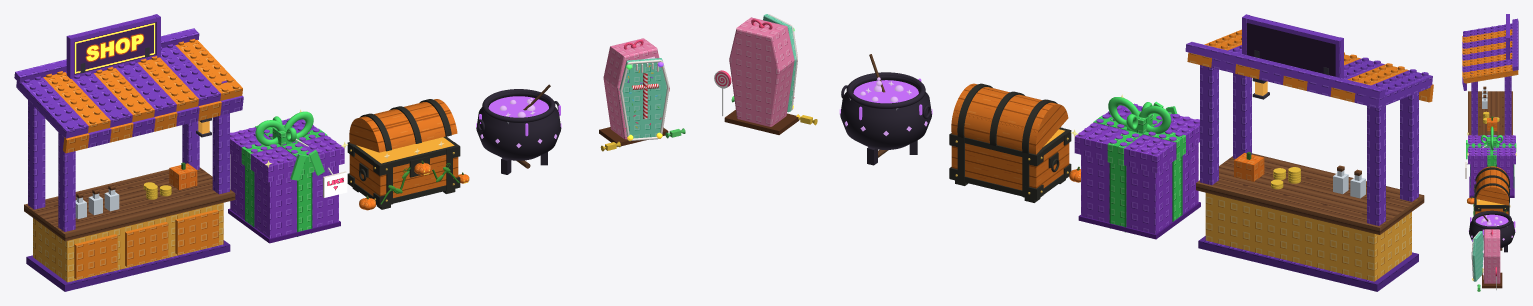
File: Lobby_Props.glb
The picture shows the model from 3 angles, left to right: view 1: azimuth 30°, elevation 25°; view 2: azimuth 150°, elevation 25°; view 3: azimuth 270°, elevation 25°; orthographic projection. The views are drawn at different scales.
Visible parts, largest first — view 1: counter_top_4, gift_body_0, counter_0, cauldron_pot_0, chest_lid_5, shop_sign_27, coffin_lid_3, gift_lid_1, chest_body_0, coffin_body_0, counter_base_5, awning_studs_60 (+30 smaller); view 2: counter_0, counter_top_4, coffin_body_0, gift_body_0, chest_lid_5, cauldron_pot_0, chest_body_0, gift_lid_1, shop_sign_27, awning_ridge_26, counter_base_5, post_6 (+28 smaller); view 3: counter_top_4, chest_lid_5, coffin_body_0, gift_lid_1, awning_studs_59, awning_studs_60, cauldron_pot_0, awning_stripe_17, studs_11, gift_body_0, coffin_lid_3, post_8 (+29 smaller).
Boxes of the visible parts, bbox=[...] form: counter_top_4: bbox=[24, 167, 235, 241]; gift_body_0: bbox=[230, 155, 338, 238]; counter_0: bbox=[33, 203, 223, 282]; cauldron_pot_0: bbox=[476, 91, 561, 160]; chest_lid_5: bbox=[349, 99, 457, 152]; shop_sign_27: bbox=[74, 22, 156, 74]; coffin_lid_3: bbox=[619, 58, 666, 138]; gift_lid_1: bbox=[230, 119, 344, 182]; chest_body_0: bbox=[349, 153, 458, 197]; coffin_body_0: bbox=[603, 38, 659, 139]; counter_base_5: bbox=[26, 240, 230, 291]; awning_studs_60: bbox=[46, 38, 238, 124]; counter_0: bbox=[1205, 193, 1411, 281]; counter_top_4: bbox=[1196, 153, 1424, 234]; coffin_body_0: bbox=[729, 17, 794, 126]; gift_body_0: bbox=[1081, 143, 1198, 233]; chest_lid_5: bbox=[951, 83, 1068, 154]; cauldron_pot_0: bbox=[840, 74, 931, 149]; chest_body_0: bbox=[951, 141, 1069, 190]; gift_lid_1: bbox=[1074, 105, 1199, 173]; shop_sign_27: bbox=[1246, 23, 1335, 76]; awning_ridge_26: bbox=[1185, 42, 1385, 98]; counter_base_5: bbox=[1198, 236, 1418, 291]; post_6: bbox=[1367, 105, 1385, 225]; counter_top_4: bbox=[1468, 91, 1512, 135]; chest_lid_5: bbox=[1476, 166, 1508, 205]; coffin_body_0: bbox=[1484, 229, 1500, 283]; gift_lid_1: bbox=[1468, 135, 1515, 164]; awning_studs_59: bbox=[1463, 23, 1512, 71]; awning_studs_60: bbox=[1463, 29, 1512, 77]; cauldron_pot_0: bbox=[1469, 212, 1515, 248]; awning_stripe_17: bbox=[1463, 65, 1518, 83]; studs_11: bbox=[1468, 135, 1514, 155]; gift_body_0: bbox=[1470, 164, 1513, 195]; coffin_lid_3: bbox=[1472, 231, 1483, 281]; post_8: bbox=[1504, 76, 1511, 135].
Size of the model in its own units: 13.81 by 4.61 by 1.94.
128 materials, 128 textured.
